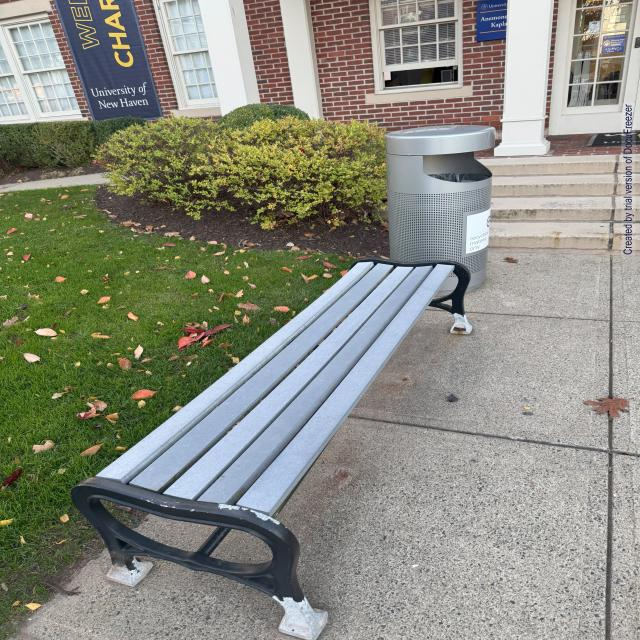Trash bin: (372, 112, 506, 300)
chair: (66, 251, 505, 640)
